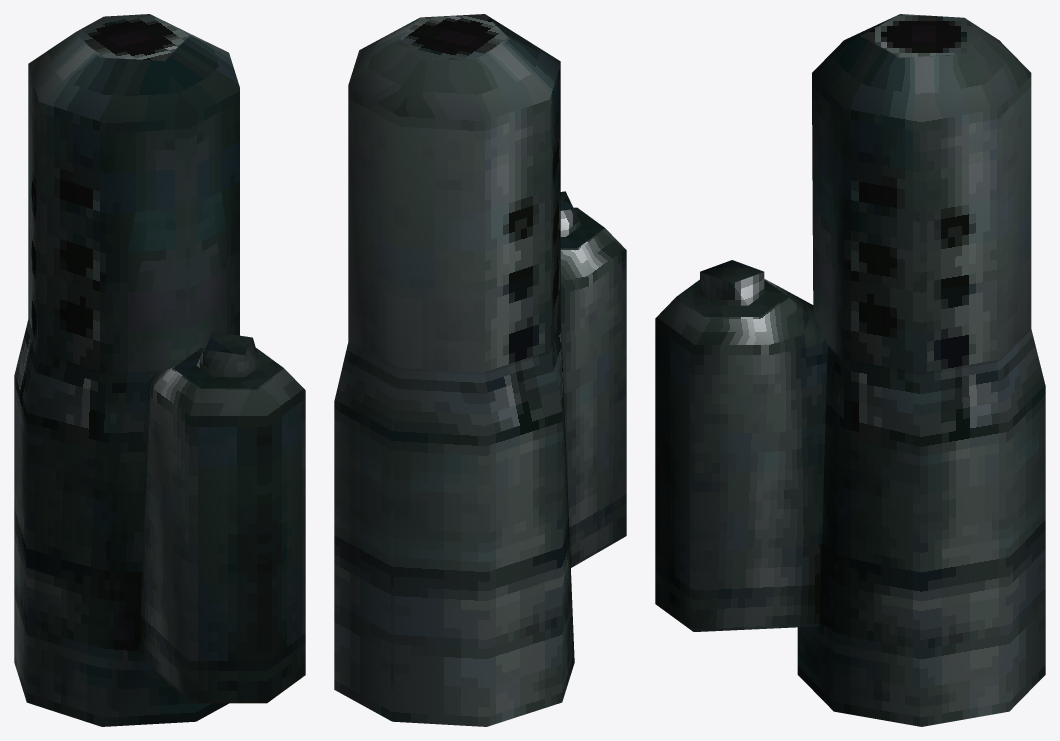
Rendered from wp_muzzle_m_s02_l0.fbx.
The picture shows the model from 3 angles, left to right: view 1: azimuth 30°, elevation 25°; view 2: azimuth 150°, elevation 25°; view 3: azimuth 270°, elevation 25°; orthographic projection.
Visible parts, largest first — view 1: mesh_node; view 2: mesh_node; view 3: mesh_node.
Part boxes in pixels (x1,y1,x2,y2): mesh_node: (14,14,305,726); mesh_node: (334,14,626,726); mesh_node: (655,14,1045,726).
Size of the model in its own units: 0.0363 by 0.1031 by 0.0571.
Materials: 1 (1 with a texture image).
